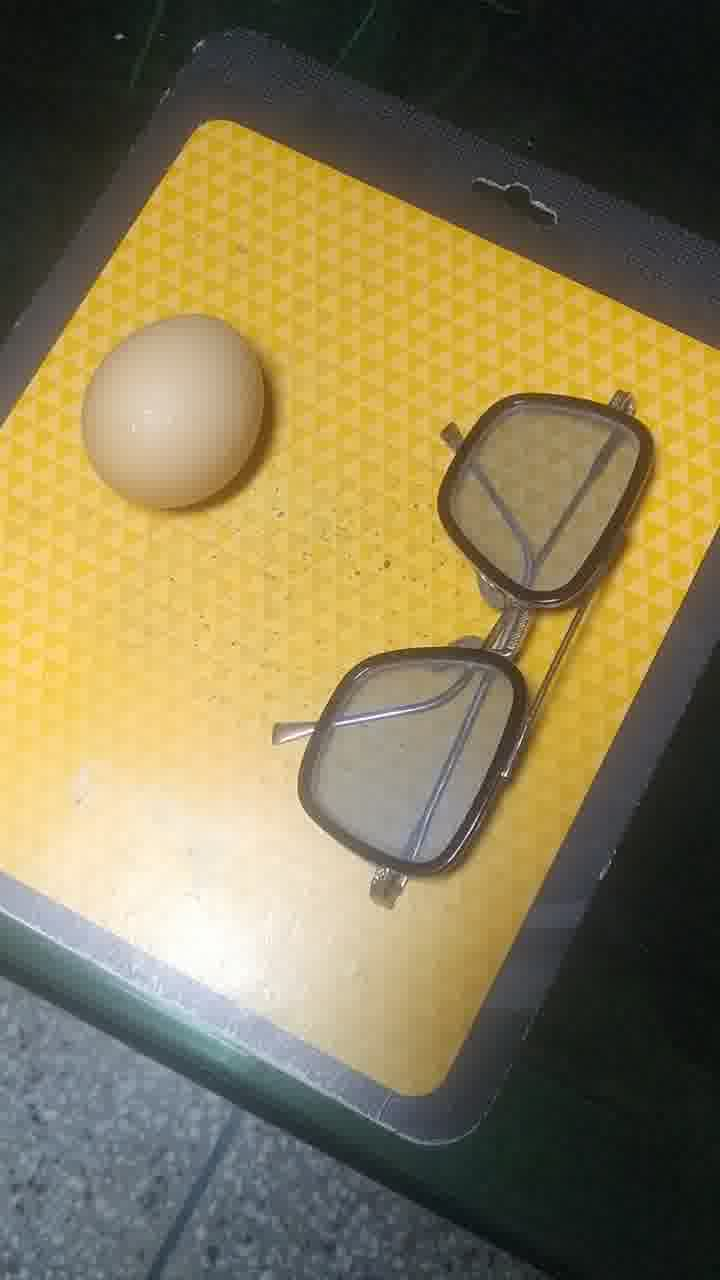egg: (74, 304, 271, 521)
sunglass: (274, 387, 657, 907)
